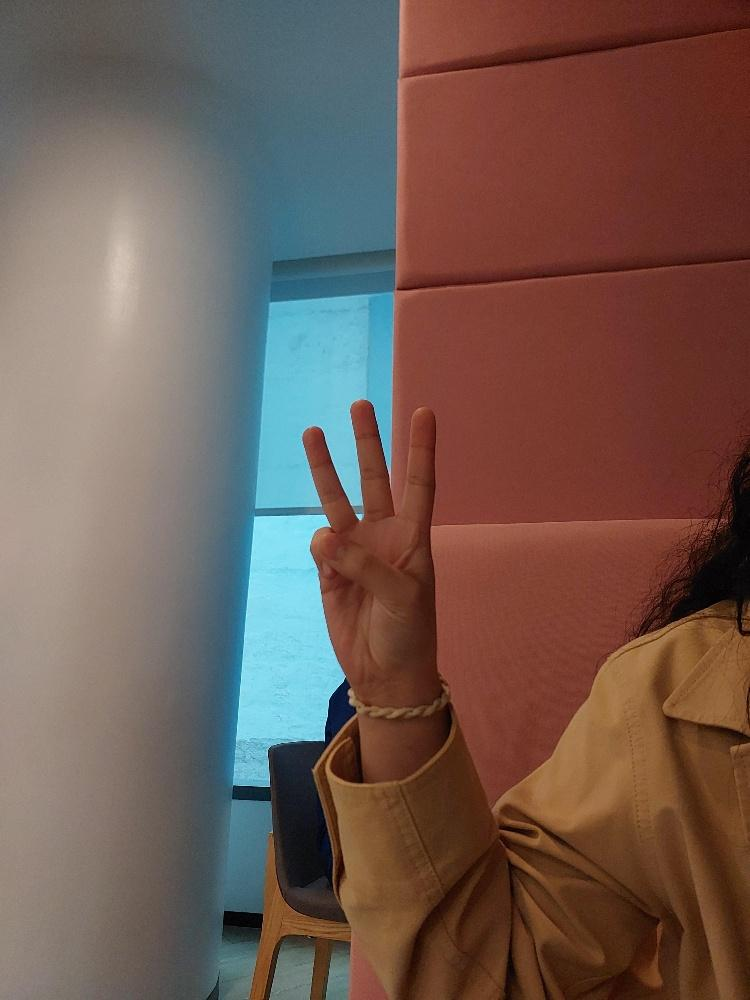w: (297, 390, 443, 714)
